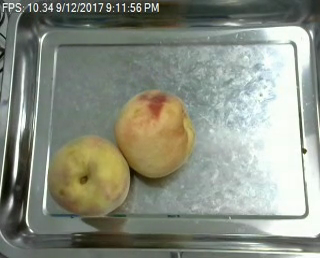Peach: (113, 88, 195, 178), (49, 134, 129, 217)
